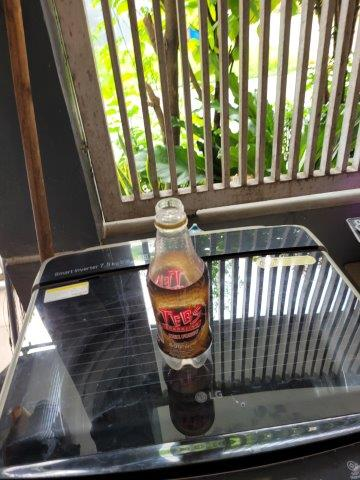botolplastik: (147, 201, 216, 369)
